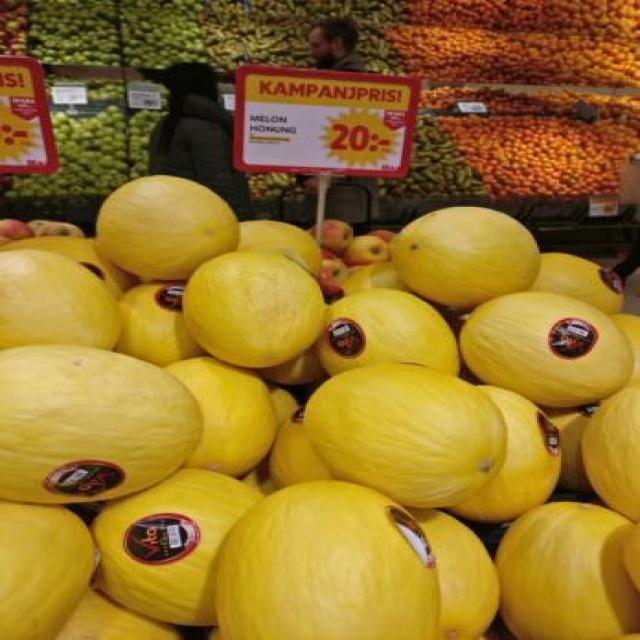Honeydew: (223, 482, 440, 639), (0, 345, 206, 502), (311, 363, 509, 507), (458, 292, 636, 406), (493, 502, 639, 638), (191, 250, 325, 367), (99, 175, 241, 275), (401, 206, 543, 302), (4, 252, 120, 348)
